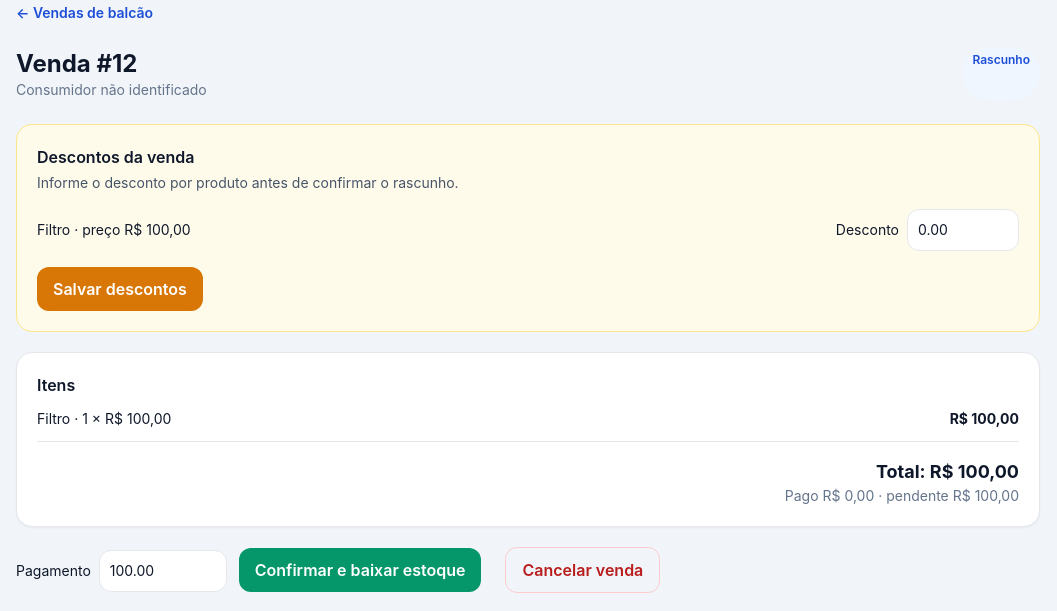
Test: DirectSaleDetailPage › allows a discount on a draft before confirming the sale
This screenshot has width=1057, height=611.
Step 1. Replace the text in the field named "desconto de filtro" with "20.00" → (963, 230), box [907,209,1019,251]
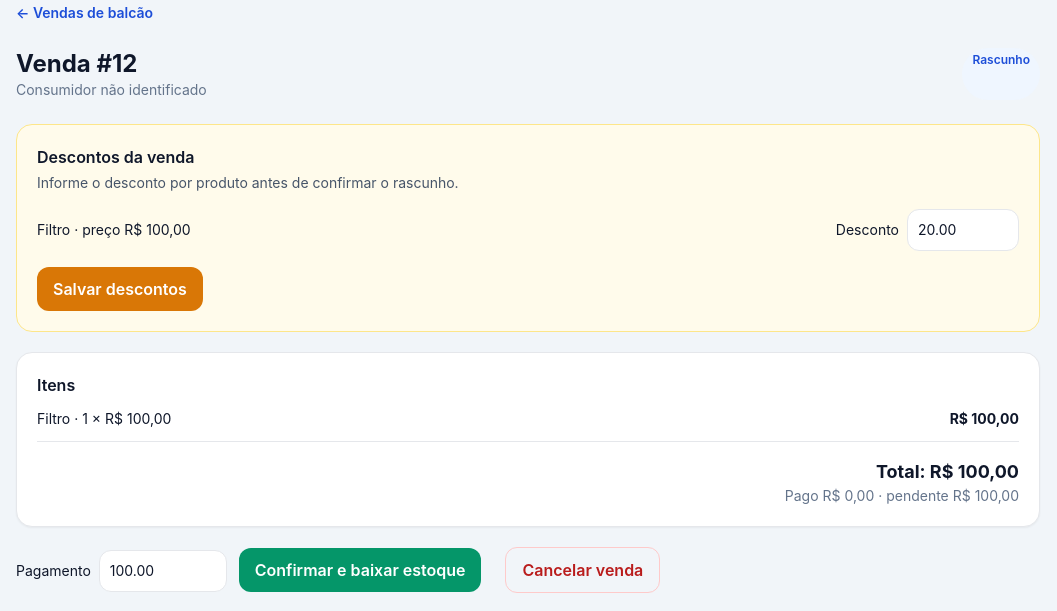
Step 2. Click the button "Salvar descontos" → (120, 289), box [37,267,203,311]
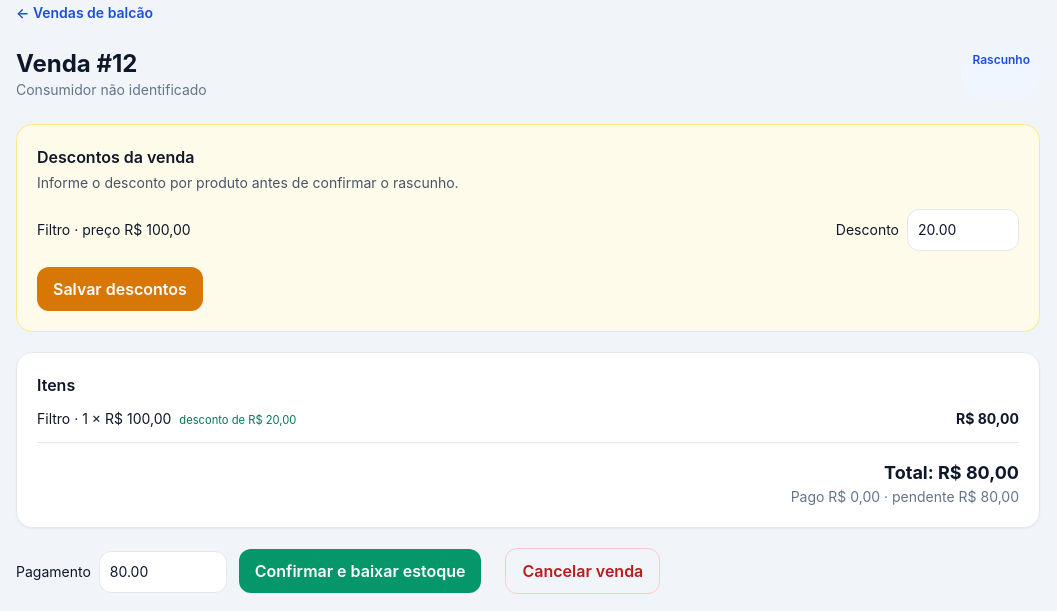
Expected: the text "R$ 80,00" is shown, [956,409,1019,430]
